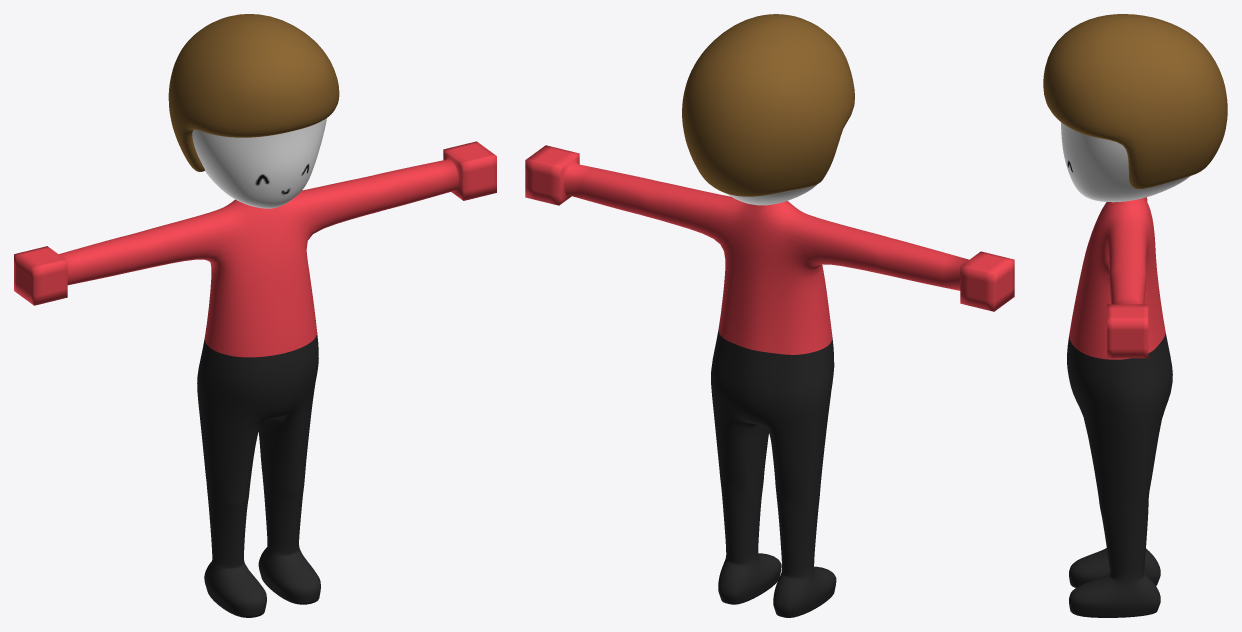
The model's file is MiiGronico.fbx.
3 views of the same model, side by side, from view 1: azimuth 30°, elevation 25°; view 2: azimuth 150°, elevation 25°; view 3: azimuth 270°, elevation 25° (orthographic).
Parts seen in each view (by area): view 1: Teuté.005; view 2: Teuté.005; view 3: Teuté.005.
Part boxes in pixels (left/top/right/bottom): Teuté.005: left=14, top=14, right=496, bottom=617; Teuté.005: left=525, top=14, right=1014, bottom=617; Teuté.005: left=1043, top=14, right=1227, bottom=617.
Bounding box in the file's own units: 188 × 220 × 64.03.
